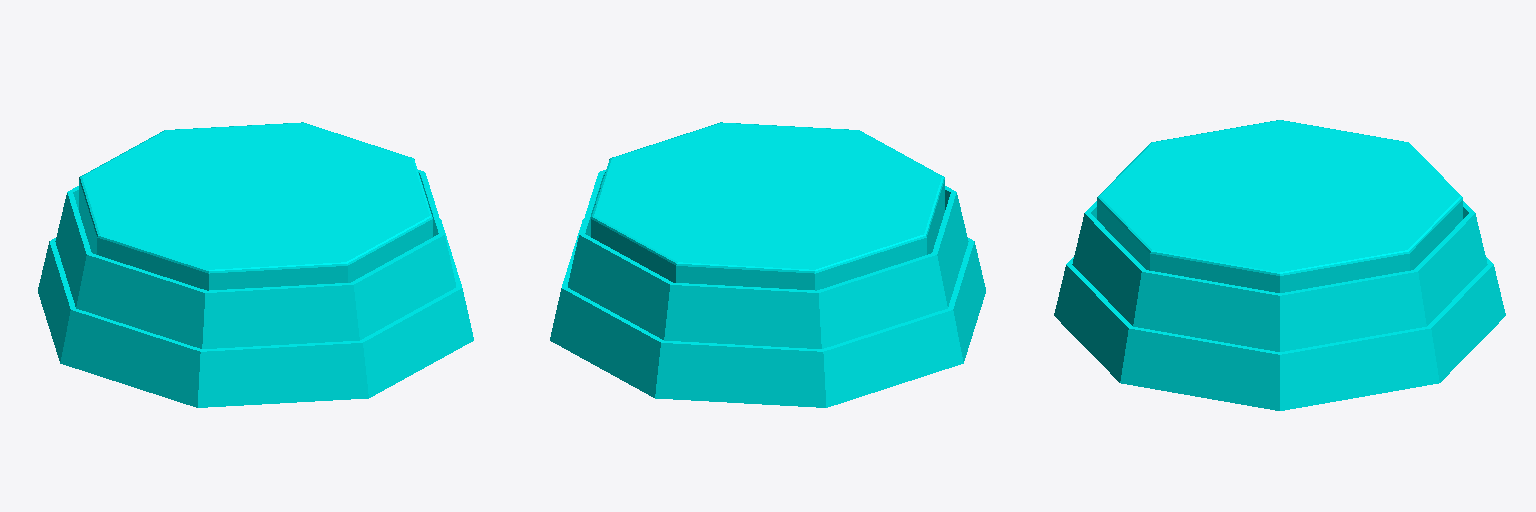
Rendered from Button_oblique.obj.
3 views of the same model, side by side, from view 1: azimuth 30°, elevation 25°; view 2: azimuth 150°, elevation 25°; view 3: azimuth 270°, elevation 25° (orthographic).
Visible parts, largest first — view 1: Circle_oblique; view 2: Circle_oblique; view 3: Circle_oblique.
Part boxes in pixels (x1,y1,x2,y2): Circle_oblique: (38,122,473,407); Circle_oblique: (550,122,985,407); Circle_oblique: (1054,120,1505,410).
Size of the model in its own units: 4.72 by 1.38 by 4.72.